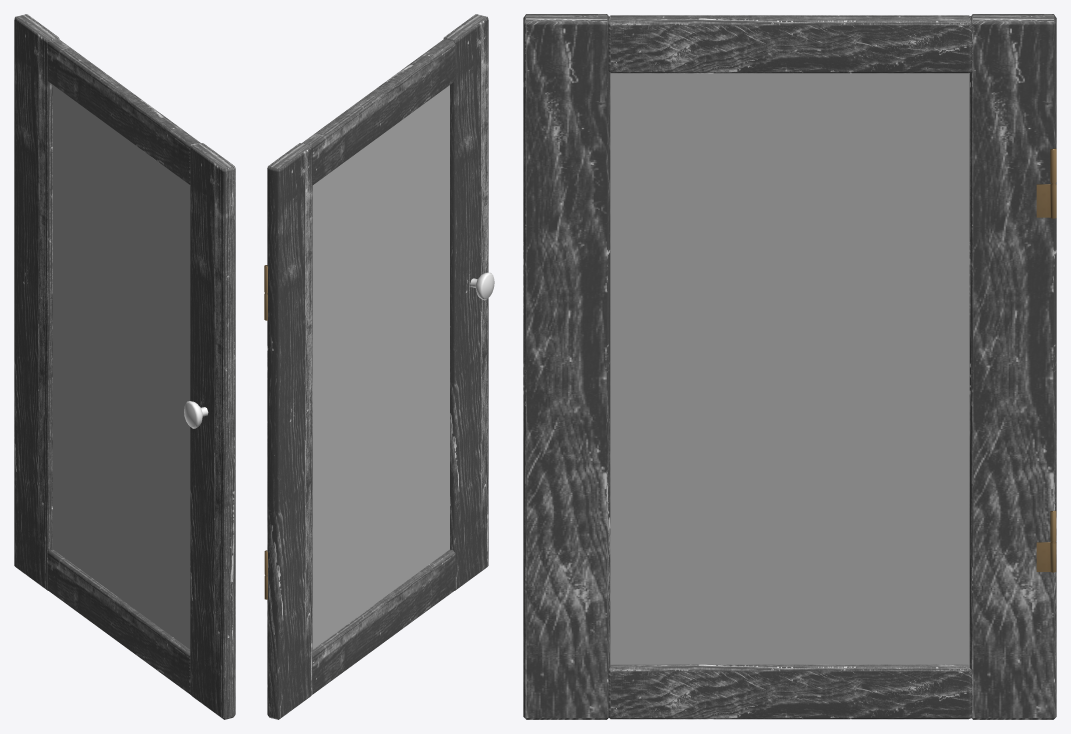
File: SM_Cabinet_C1_Door2.fbx
The picture shows the model from 3 angles, left to right: view 1: azimuth 30°, elevation 25°; view 2: azimuth 150°, elevation 25°; view 3: azimuth 270°, elevation 25°; orthographic projection. The views are drawn at different scales.
Parts seen in each view (by area): view 1: SM_Cabinet_C1_Door2; view 2: SM_Cabinet_C1_Door2; view 3: SM_Cabinet_C1_Door2.
Part boxes in pixels (bbox=[...]): SM_Cabinet_C1_Door2: bbox=[14, 14, 235, 719]; SM_Cabinet_C1_Door2: bbox=[264, 14, 494, 719]; SM_Cabinet_C1_Door2: bbox=[523, 14, 1056, 719].
Bounding box in the file's own units: 4.82 × 49.76 × 71.97.
Materials: 4 (3 with a texture image).
